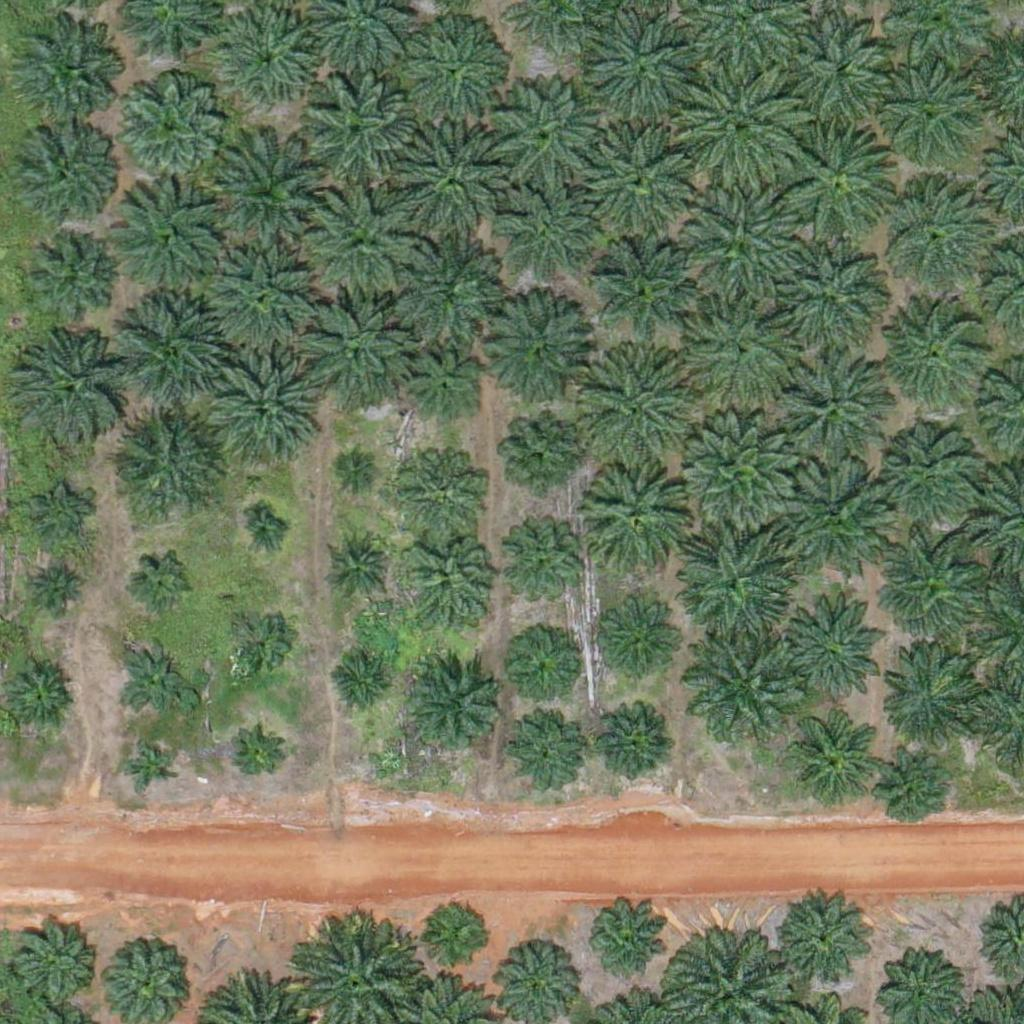Kelapa_Sawit: (210, 132, 335, 258), (8, 326, 133, 452), (677, 59, 802, 184), (205, 240, 318, 354), (115, 185, 228, 299), (113, 70, 226, 184), (876, 178, 989, 291), (875, 523, 988, 636), (785, 128, 898, 241), (775, 233, 888, 346), (772, 351, 885, 464), (685, 625, 798, 738), (575, 457, 688, 570), (478, 297, 591, 410), (396, 125, 509, 238), (382, 226, 495, 339), (203, 349, 316, 462), (116, 291, 229, 404), (107, 406, 220, 519), (871, 55, 984, 168), (785, 14, 898, 127), (493, 77, 606, 190), (296, 286, 408, 400), (10, 21, 122, 135), (781, 455, 893, 568), (777, 601, 889, 714), (684, 182, 796, 295), (682, 291, 794, 404), (680, 410, 792, 523), (676, 525, 788, 638), (578, 347, 690, 460), (307, 184, 419, 297), (583, 8, 695, 121), (582, 120, 694, 233), (302, 74, 414, 187), (775, 891, 875, 992), (889, 297, 989, 398), (880, 421, 980, 522), (881, 643, 981, 744), (592, 244, 692, 345), (401, 656, 501, 757), (404, 22, 504, 123), (16, 119, 116, 220), (220, 9, 320, 109), (785, 713, 873, 801), (396, 447, 484, 535), (404, 541, 492, 629), (26, 236, 114, 324), (583, 899, 670, 987), (11, 921, 98, 1009), (590, 594, 677, 682), (501, 191, 588, 279), (504, 417, 579, 493), (598, 710, 673, 786), (506, 532, 581, 608), (509, 714, 584, 790), (402, 350, 477, 426), (1, 658, 76, 733), (117, 640, 192, 715), (506, 637, 569, 700), (330, 655, 393, 718), (427, 902, 490, 965), (225, 610, 288, 673), (880, 754, 943, 817), (29, 483, 91, 546), (133, 552, 195, 615), (231, 732, 281, 783), (35, 561, 85, 612), (124, 741, 174, 792), (333, 540, 383, 590), (341, 451, 379, 489), (246, 513, 283, 551)
